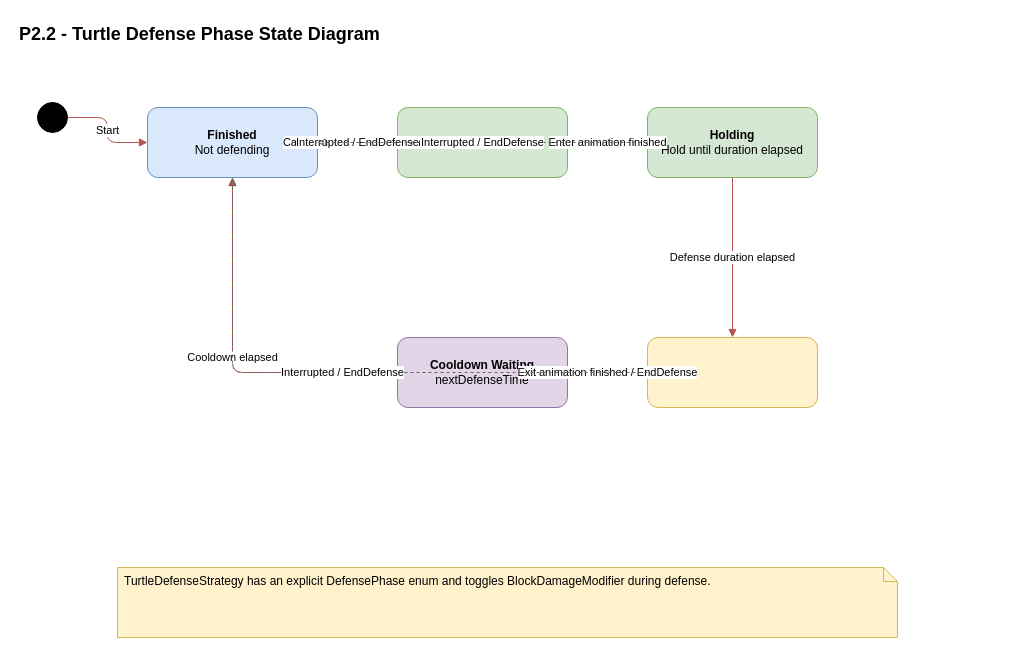
The diagram is 1034 pixels wide and 655 high, and some of its shapes have lost their labels. The shapes that lost their labels are listed below. From the top down, each one's centre as x and y in pixels, then its label:
the point at 482,142: Entering Defense_1 animation Block active
the point at 732,372: Exiting Defense_2 animation
